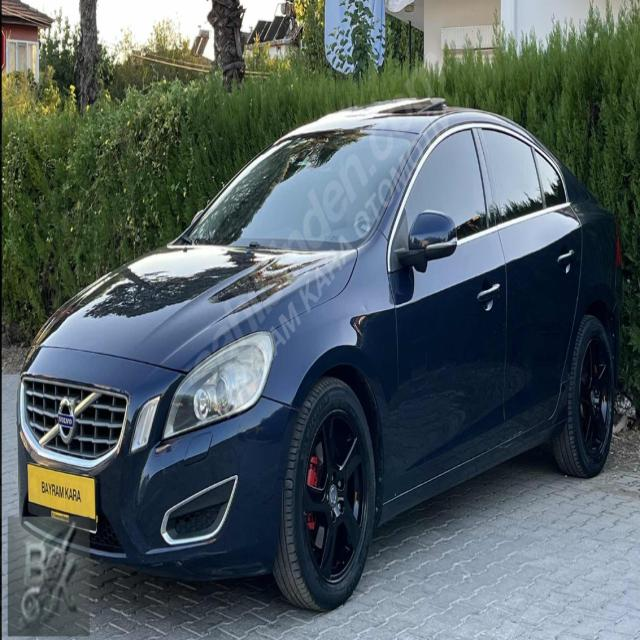volvo: (54, 392, 78, 446)
